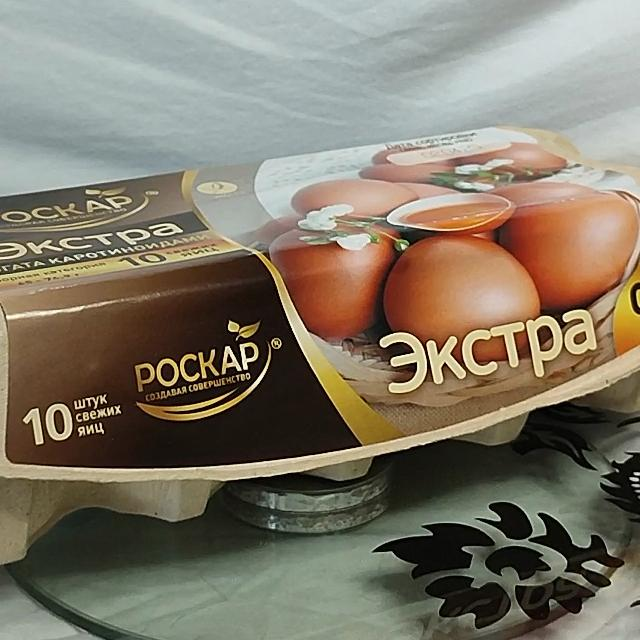egg: (0, 93, 640, 573)
